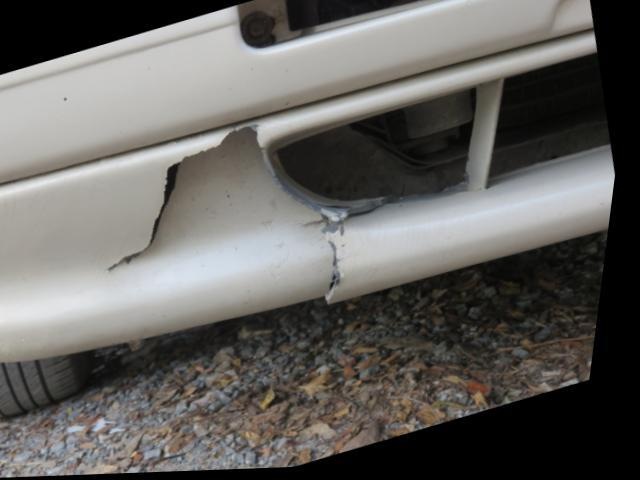crack: (112, 121, 261, 277), (329, 214, 349, 298)
